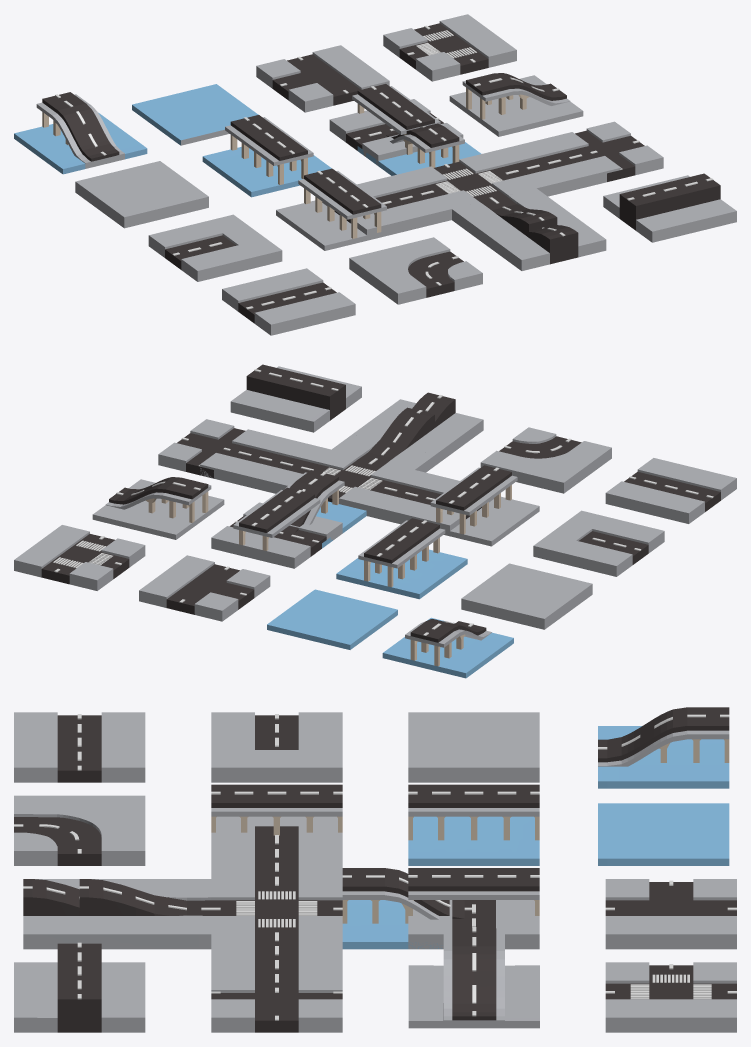
File: Streets_all.glb
The picture shows the model from 3 angles, top to bottom: view 1: azimuth 30°, elevation 25°; view 2: azimuth 150°, elevation 25°; view 3: azimuth 270°, elevation 25°; orthographic projection. The views are drawn at different scales.
Visible parts, largest first — view 1: Street_Ramp_Water.001, Street_Elevated, Street_Bridge_Water, Street_Deadend, Street_Empty, Street_Curve, Street_Straight, Street_3Way, Street_Bridge, Street_Ramp_Bridge.001, Street_3Way_2, Street_Bridge_Underpass (+8 smaller); view 2: Street_Bridge_Underpass, Street_Bridge_Water, Street_Elevated, Street_Empty, Street_Deadend, Street_Straight, Street_3Way_2, Street_3Way, Street_Ramp_Bridge.001, Street_Bridge, Street_Curve, Street_Ramp_Water.001 (+8 smaller); view 3: Street_Bridge_Water, Street_Ramp_Bridge.001, Street_Elevated, Street_Ramp_Water.001, Street_Empty, Street_Curve, Street_3Way_2, Street_3Way, Street_Straight, Street_Deadend, Street_RampElevated.001, Street_Bridge_Underpass (+8 smaller).
Part boxes in pixels (x1,y1,x2,y2): Street_Ramp_Water.001: (14, 92, 147, 174); Street_Elevated: (603, 173, 736, 242); Street_Bridge_Water: (202, 115, 331, 197); Street_Deadend: (148, 214, 282, 281); Street_Empty: (75, 161, 208, 228); Street_Curve: (349, 237, 482, 304); Street_Straight: (222, 268, 355, 335); Street_3Way: (383, 14, 516, 81); Street_Bridge: (276, 168, 409, 250); Street_Ramp_Bridge.001: (449, 73, 583, 136); Street_3Way_2: (256, 45, 389, 112); Street_Bridge_Underpass: (329, 84, 463, 165); Street_Bridge_Underpass: (211, 487, 342, 568); Street_Bridge_Water: (336, 518, 467, 599); Street_Elevated: (230, 364, 361, 432); Street_Empty: (461, 563, 592, 629); Street_Deadend: (533, 510, 664, 576); Street_Straight: (605, 458, 736, 523); Street_3Way_2: (139, 555, 270, 621); Street_3Way: (14, 525, 145, 590); Street_Ramp_Bridge.001: (92, 477, 224, 539); Street_Bridge: (430, 465, 539, 546); Street_Curve: (480, 427, 611, 493); Street_Ramp_Water.001: (382, 617, 513, 678); Street_Bridge_Water: (408, 784, 539, 865); Street_Ramp_Bridge.001: (408, 927, 539, 1028); Street_Elevated: (14, 942, 145, 1032); Street_Ramp_Water.001: (598, 707, 729, 788); Street_Empty: (408, 712, 539, 782); Street_Curve: (14, 795, 145, 865); Street_3Way_2: (605, 879, 736, 949); Street_3Way: (605, 962, 736, 1032); Street_Straight: (14, 712, 145, 782); Street_Deadend: (211, 712, 342, 782); Street_RampElevated.001: (79, 879, 211, 949); Street_Bridge_Underpass: (408, 868, 539, 949).
Size of the model in its own units: 11 by 0.768 by 11.
